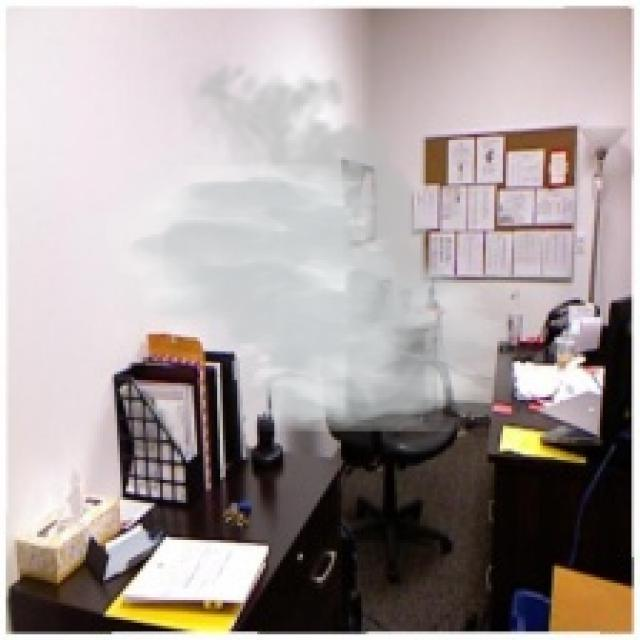Smoke: (105, 51, 518, 432)
